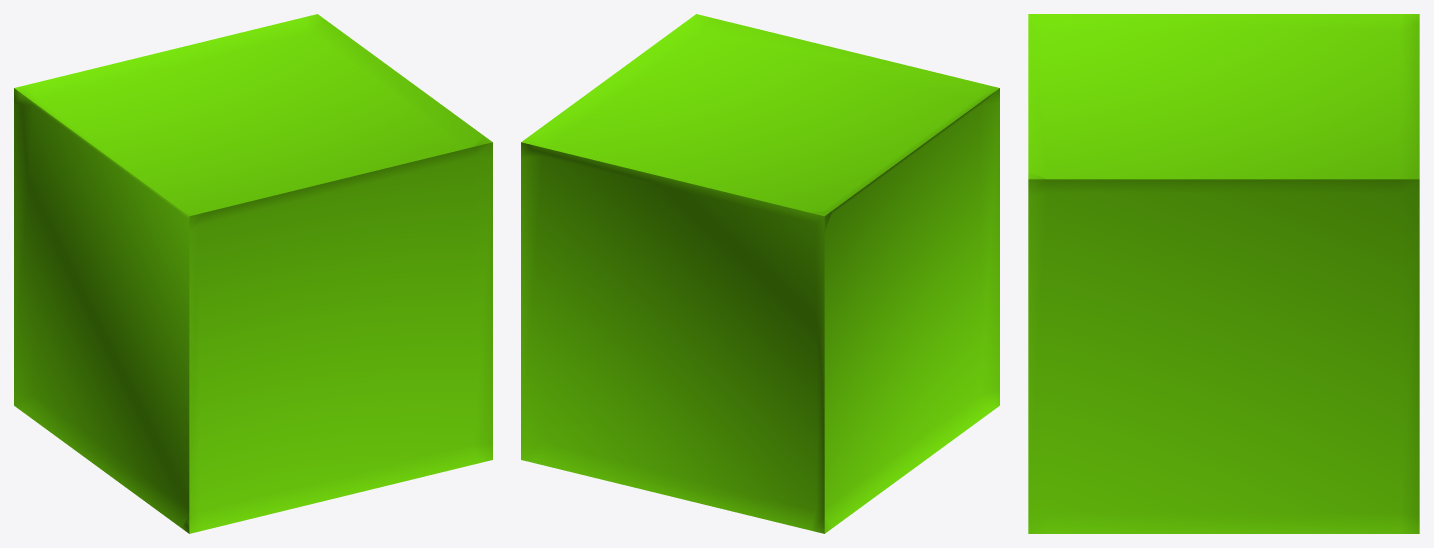
The model's file is BoxGreen.fbx.
3 renders of one model, left to right at view 1: azimuth 30°, elevation 25°; view 2: azimuth 150°, elevation 25°; view 3: azimuth 270°, elevation 25°, orthographic. The views are drawn at different scales.
Visible parts, largest first — view 1: pCube1; view 2: pCube1; view 3: pCube1.
Boxes of the visible parts, left/top/right/bottom form: pCube1: left=14, top=14, right=492, bottom=533; pCube1: left=521, top=14, right=999, bottom=533; pCube1: left=1028, top=14, right=1419, bottom=533.
Bounding box in the file's own units: 1.27 × 1.27 × 1.27.
